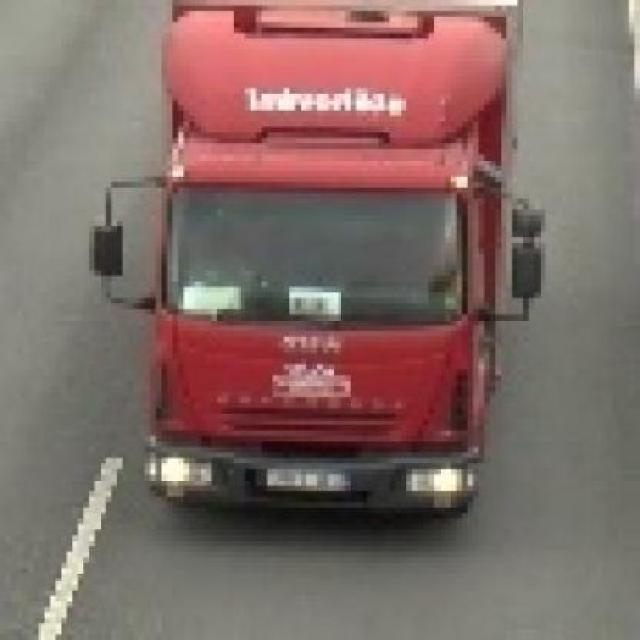truck: (90, 1, 541, 519)
